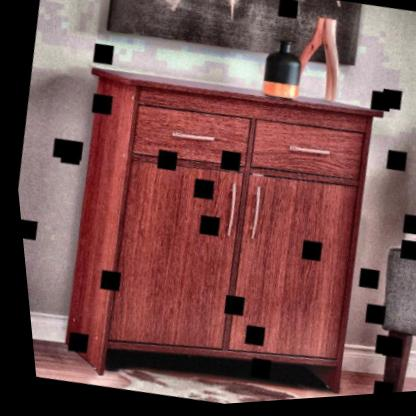Sideboard: (42, 52, 398, 402)
